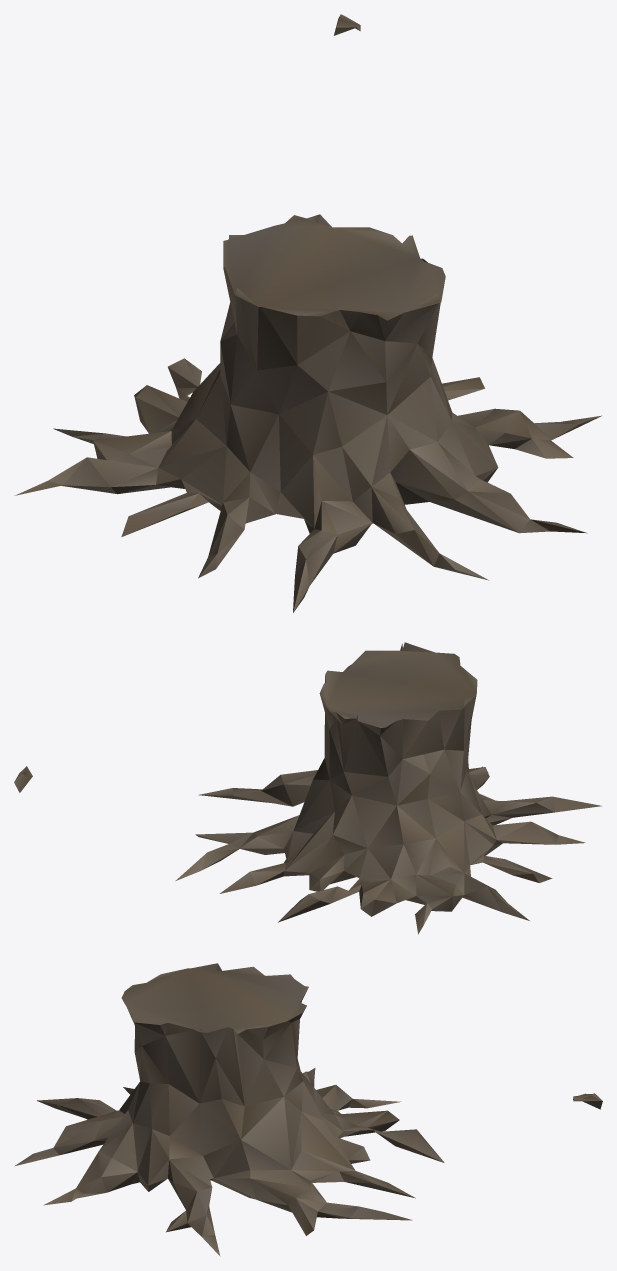
File: hawthorn_stump.glb
3 renders of one model, top to bottom at view 1: azimuth 30°, elevation 25°; view 2: azimuth 150°, elevation 25°; view 3: azimuth 270°, elevation 25°, orthographic. The views are drawn at different scales.
Visible parts, largest first — view 1: Stump; view 2: Stump; view 3: Stump.
Boxes of the visible parts, x1,y1,x2,y2 form: Stump: [14, 14, 601, 612]; Stump: [14, 642, 601, 934]; Stump: [14, 963, 602, 1256].
Size of the model in its own units: 1.57 by 0.6548 by 2.07.
